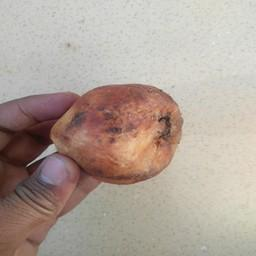Bad_guava: (48, 74, 185, 188)
